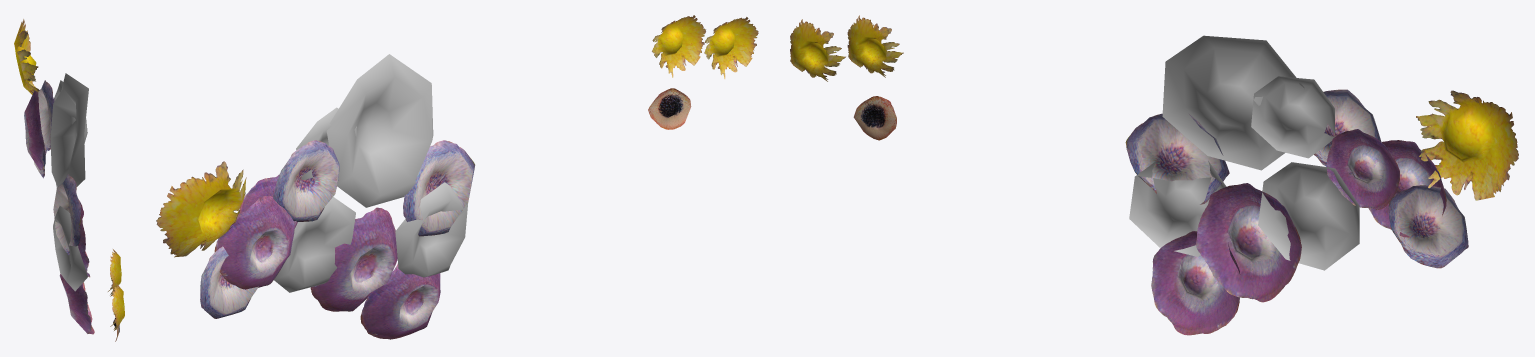
File: Right_Flower3.fbx
3 views of the same model, side by side, from view 1: azimuth 30°, elevation 25°; view 2: azimuth 150°, elevation 25°; view 3: azimuth 270°, elevation 25° (orthographic). The views are drawn at different scales.
Parts seen in each view (by area): view 1: Circle.1070, Circle.1075, Circle.1053, Circle.1062, Circle.1045, Circle.1055, Circle.1050, Circle.1546, Circle.1545, Circle.1065, Circle.1069, Circle.1071; view 2: Circle.1070, Circle.1045, Circle.1065, Circle.1062, Circle.1074, Circle.1055, Circle.1075, Circle.1050, Circle.1053, Circle.1069, Circle.1546, Circle.1545 (+3 smaller); view 3: Circle.1070, Circle.1065, Circle.1074, Circle.1045, Circle.1055, Circle.1071, Circle.1069, Circle.1075, Circle.1053, Circle.1063, Circle.1062, Circle.1545 (+3 smaller).
Part boxes in pixels (x1,y1,x2,y2): Circle.1070: [50, 73, 88, 186]; Circle.1075: [53, 205, 87, 291]; Circle.1053: [53, 174, 80, 254]; Circle.1062: [24, 90, 44, 169]; Circle.1045: [14, 19, 39, 94]; Circle.1055: [59, 274, 94, 334]; Circle.1050: [38, 80, 54, 150]; Circle.1546: [110, 283, 124, 330]; Circle.1545: [108, 249, 121, 296]; Circle.1065: [78, 202, 90, 277]; Circle.1069: [34, 146, 46, 178]; Circle.1071: [54, 80, 75, 124]; Circle.1070: [326, 54, 433, 207]; Circle.1045: [156, 161, 246, 257]; Circle.1065: [310, 207, 397, 311]; Circle.1062: [214, 196, 294, 289]; Circle.1074: [274, 197, 355, 292]; Circle.1055: [360, 263, 440, 339]; Circle.1075: [395, 182, 467, 277]; Circle.1050: [273, 140, 339, 221]; Circle.1053: [403, 140, 475, 236]; Circle.1069: [200, 246, 258, 318]; Circle.1546: [704, 17, 758, 78]; Circle.1545: [652, 15, 705, 77]; Circle.1070: [1162, 35, 1304, 170]; Circle.1065: [1195, 183, 1301, 302]; Circle.1074: [1258, 162, 1359, 270]; Circle.1045: [1416, 90, 1518, 200]; Circle.1055: [1151, 231, 1240, 335]; Circle.1071: [1251, 76, 1334, 158]; Circle.1069: [1388, 185, 1468, 268]; Circle.1075: [1129, 160, 1226, 256]; Circle.1053: [1125, 113, 1229, 204]; Circle.1063: [1326, 129, 1399, 209]; Circle.1062: [1368, 140, 1446, 237]; Circle.1545: [847, 15, 903, 77].
Size of the model in its own units: 40.55 by 44.48 by 97.08.
